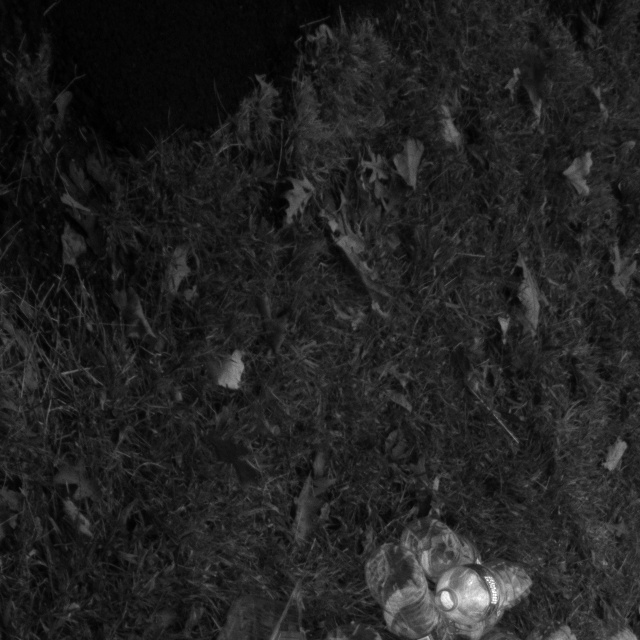bottle: (431, 553, 538, 639)
container: (144, 579, 386, 640)
